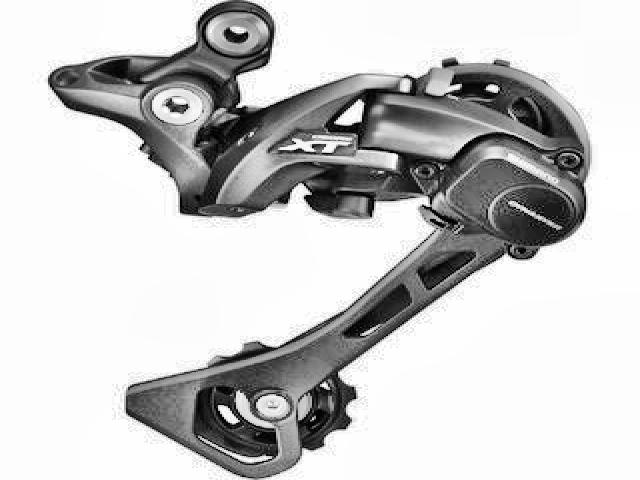rear_derailleur: (42, 3, 592, 479)
